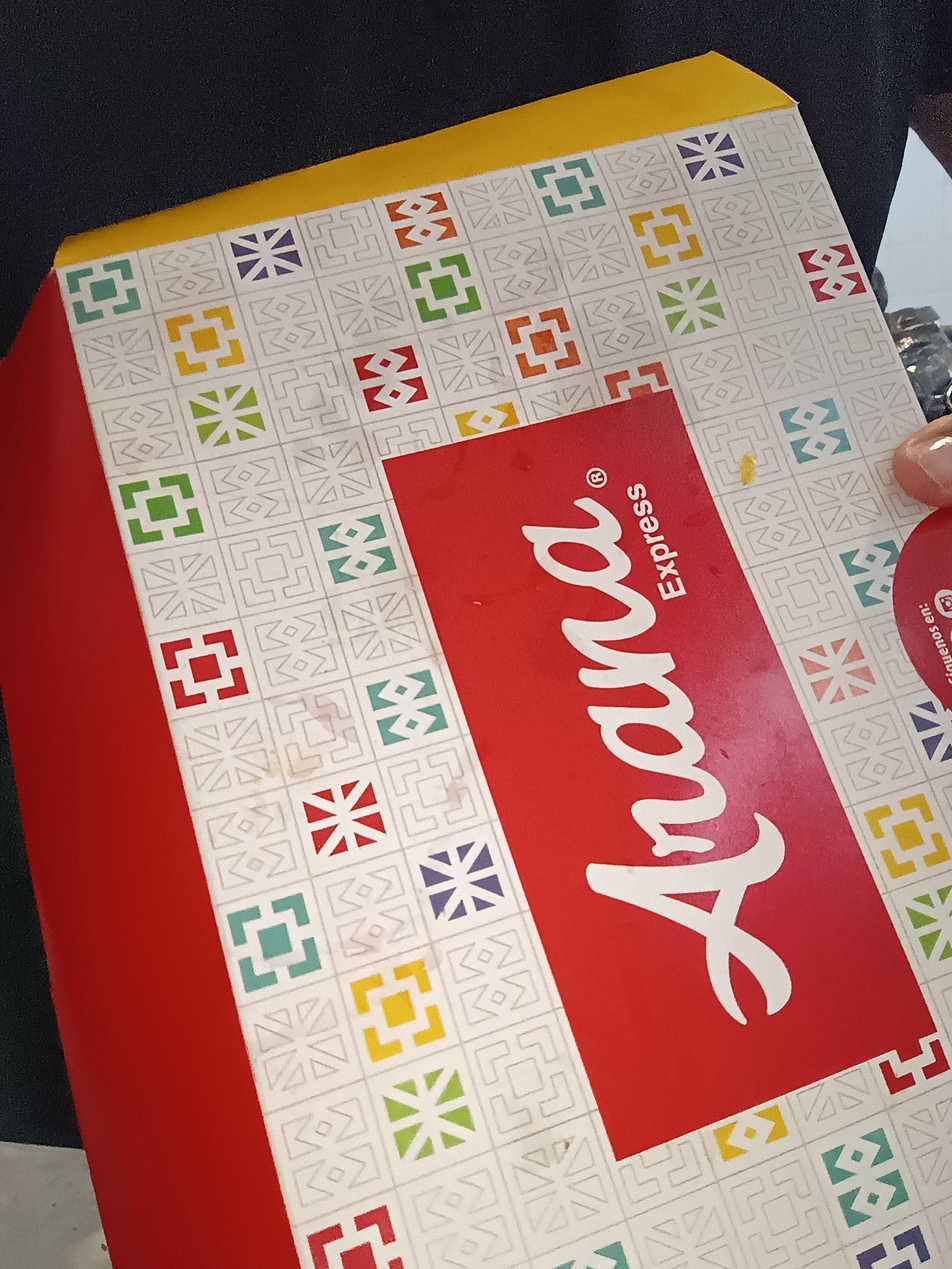Carton: (0, 51, 952, 1269)
